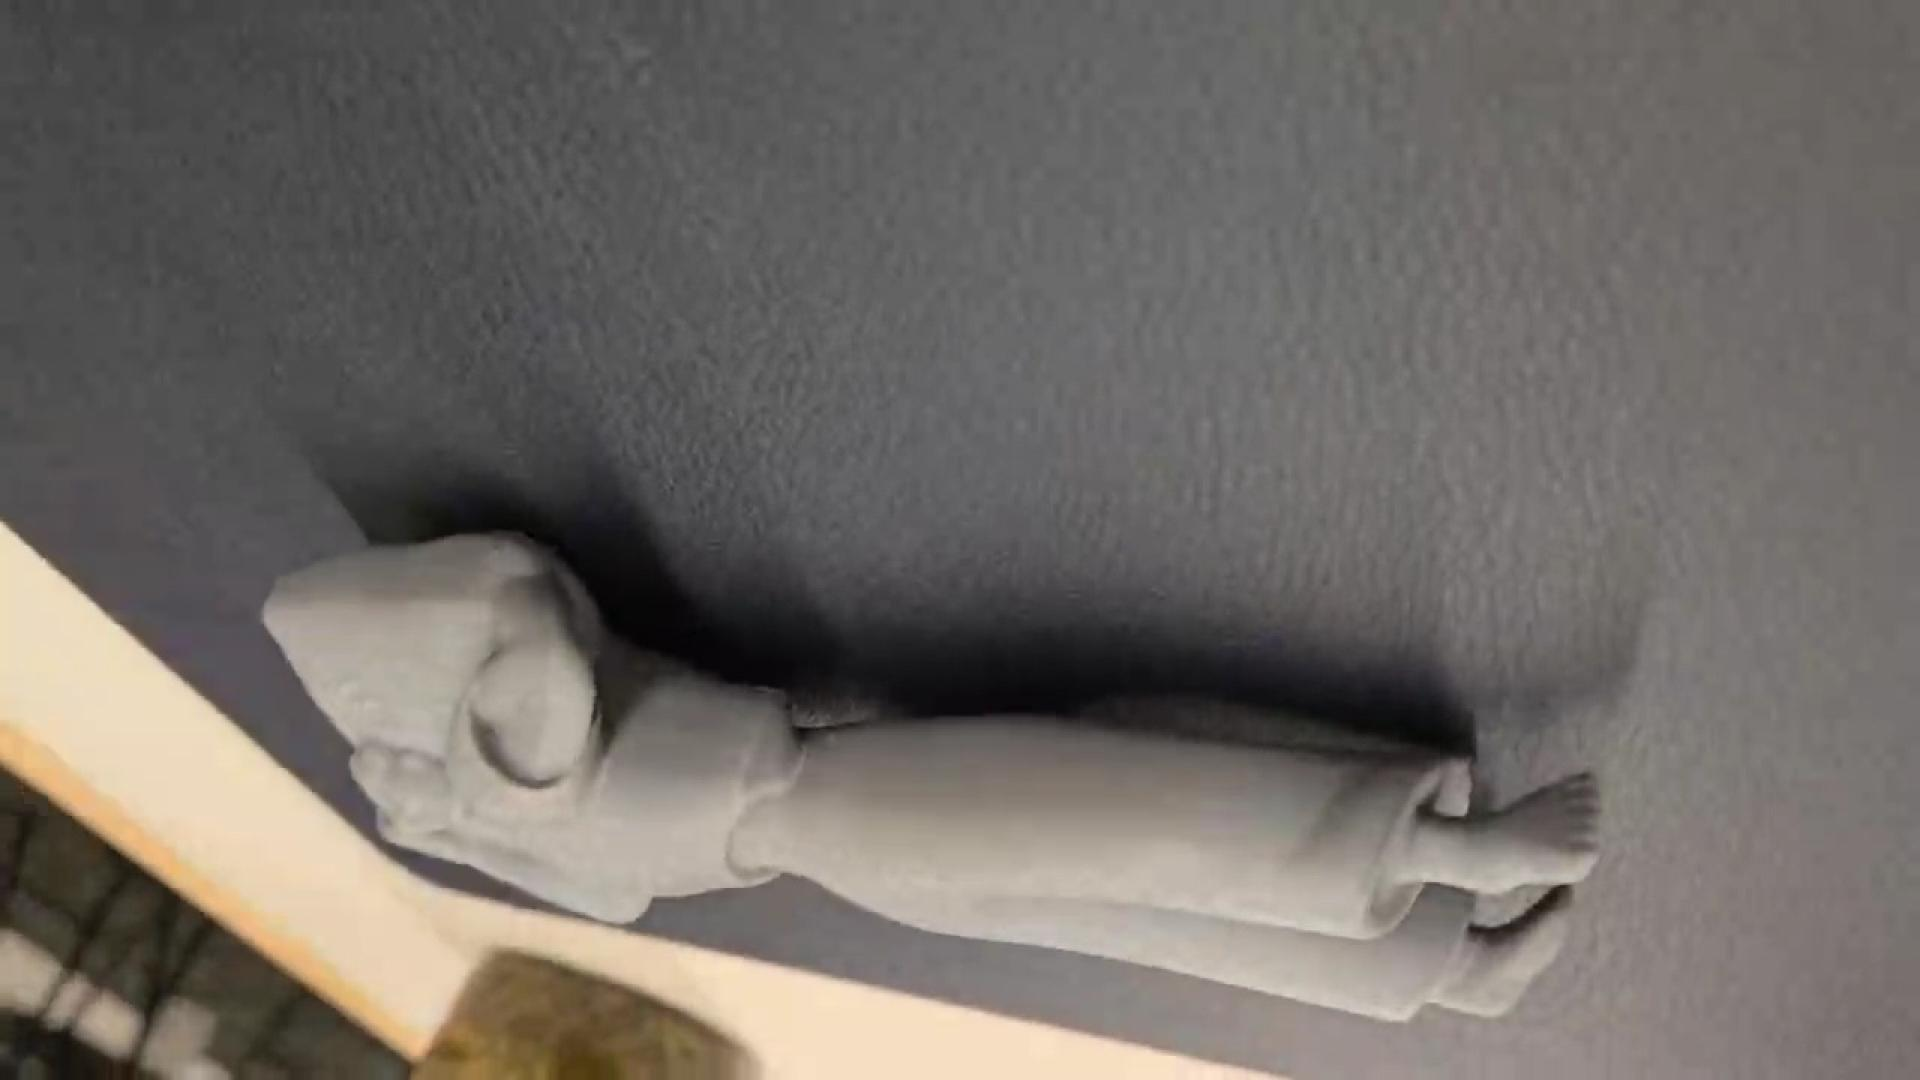Bad-style: (255, 537, 1623, 1046)
